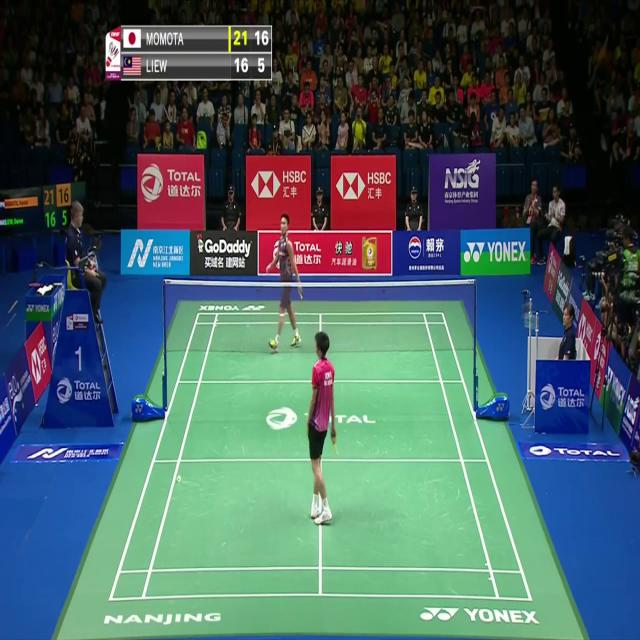Shuttlecock: (176, 473, 182, 485)
